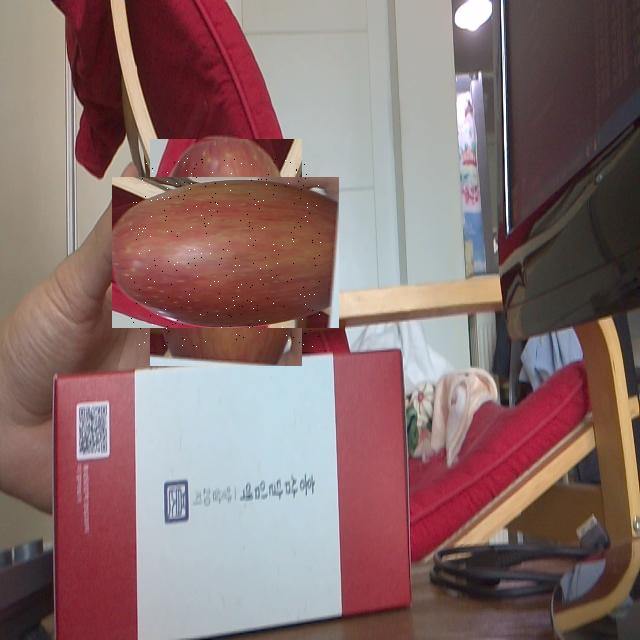apple: (131, 158, 321, 347)
